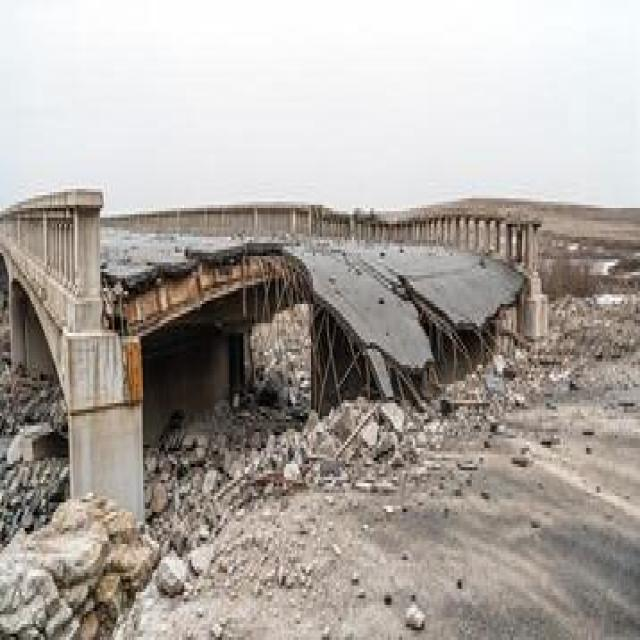road collapse: (5, 89, 640, 636)
